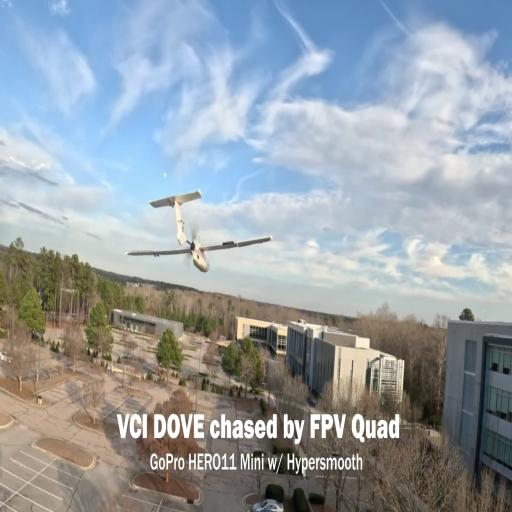uav: (124, 182, 275, 279)
